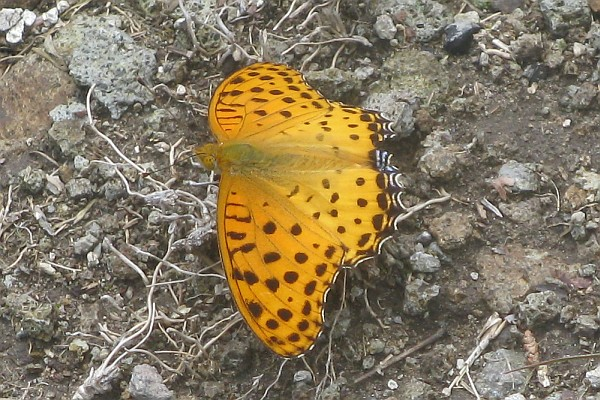Argyreus hyperbius: (183, 52, 403, 363)
butterfly: (185, 54, 405, 365)
